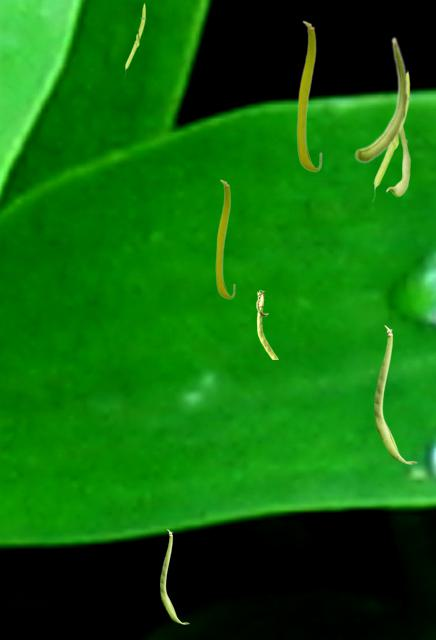french_bean: (354, 36, 408, 162), (374, 325, 416, 463), (372, 69, 410, 201), (296, 20, 321, 171), (160, 529, 188, 623), (215, 179, 234, 298), (124, 2, 145, 76), (386, 128, 409, 195), (256, 290, 277, 358)
